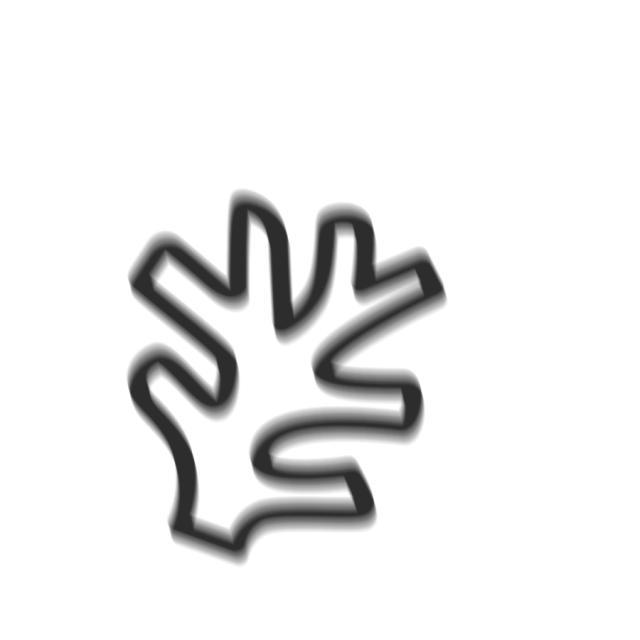coral: (116, 183, 456, 577)
